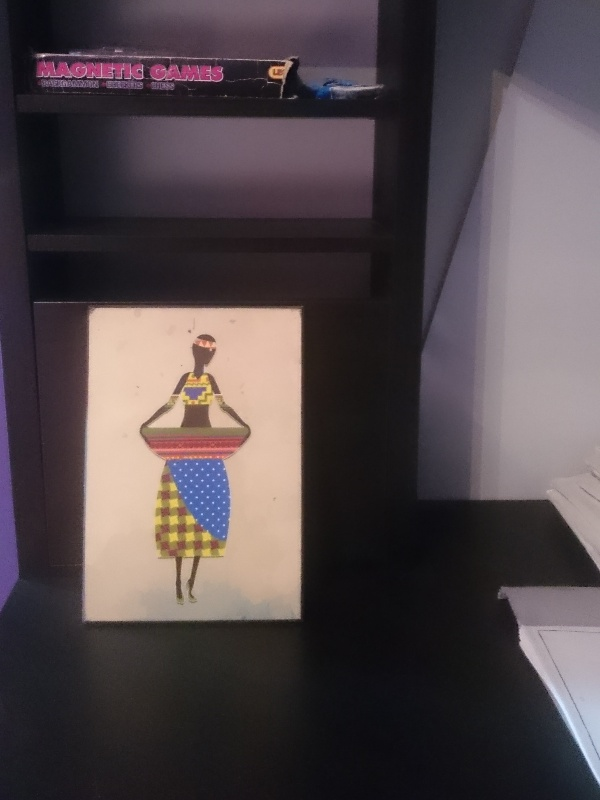my image: (84, 310, 299, 621)
